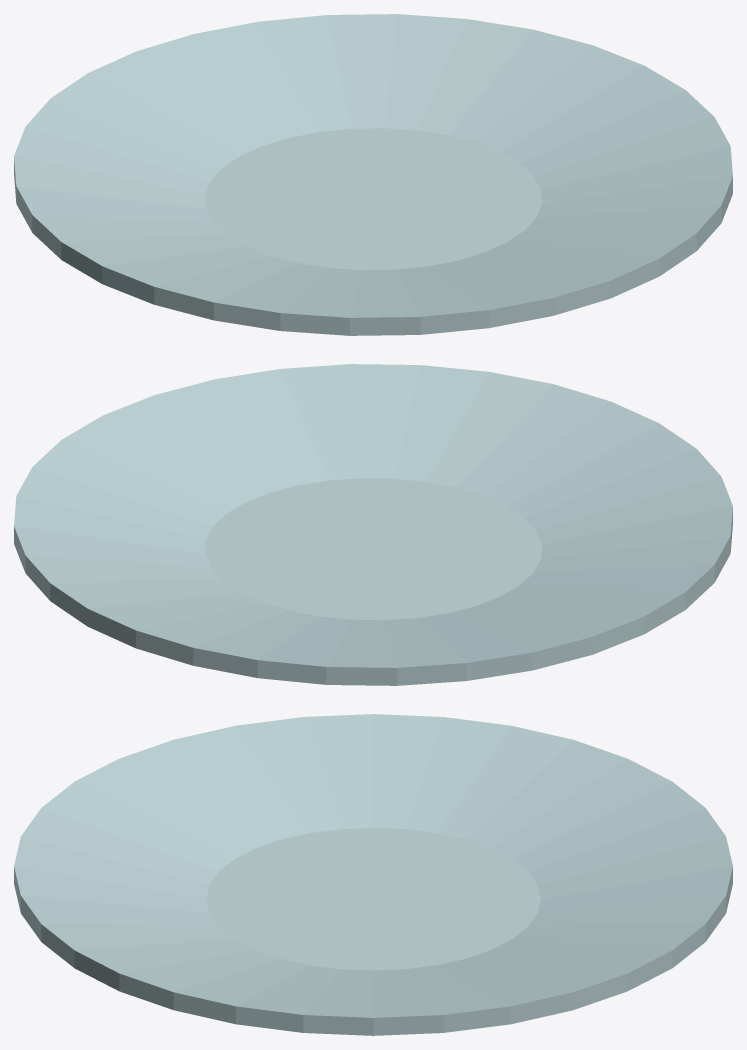
The model's file is platos.fbx.
3 renders of one model, top to bottom at view 1: azimuth 30°, elevation 25°; view 2: azimuth 150°, elevation 25°; view 3: azimuth 270°, elevation 25°, orthographic.
Parts seen in each view (by area): view 1: Cilindro; view 2: Cilindro; view 3: Cilindro.
Boxes of the visible parts, <box> form: Cilindro: <box>14,14,732,335</box>; Cilindro: <box>14,364,732,685</box>; Cilindro: <box>14,714,732,1035</box>.
Size of the model in its own units: 200 by 17.08 by 200.
